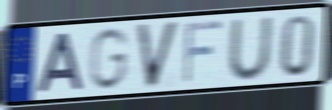0: (278, 13, 317, 78)
A: (34, 31, 85, 96)
F: (181, 18, 226, 87)
G: (86, 25, 131, 92)
U: (226, 14, 275, 82)
V: (134, 19, 182, 92)
